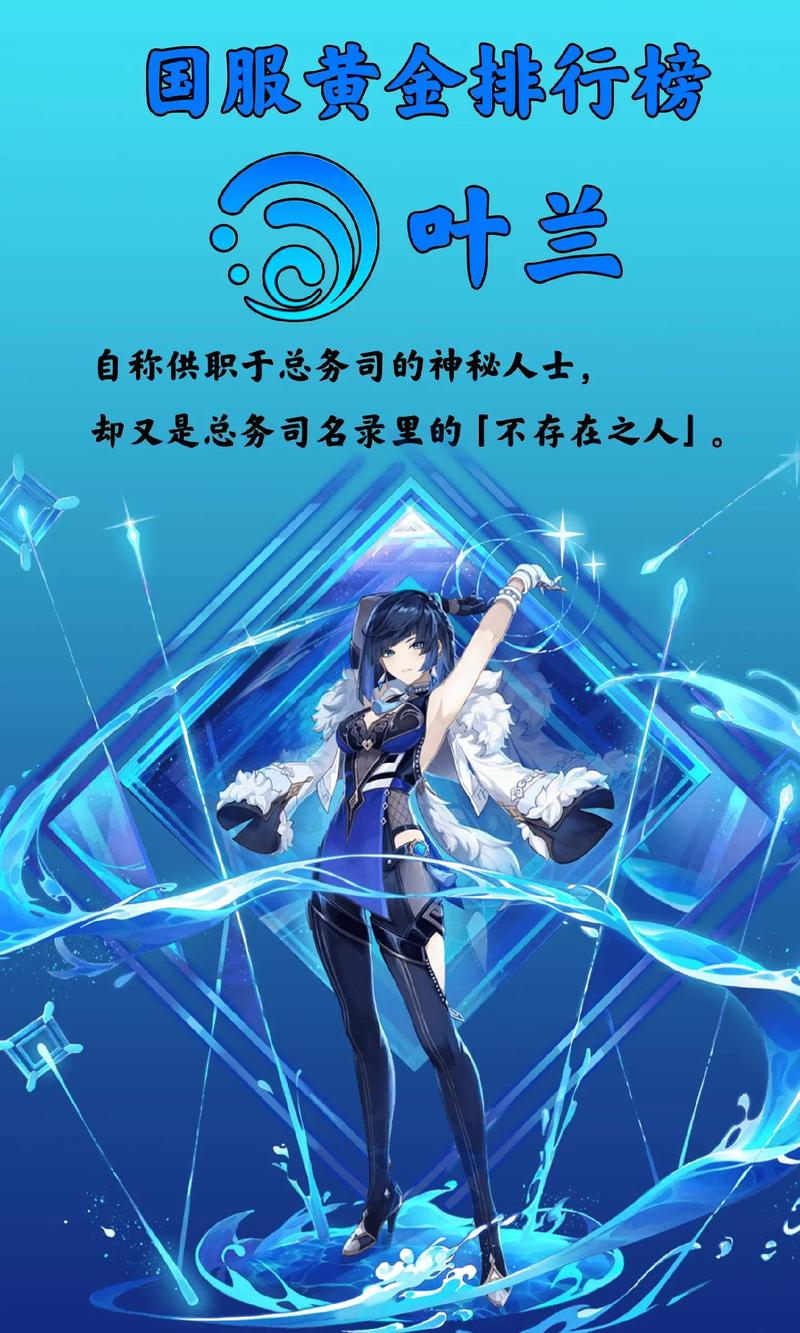夜兰: (262, 553, 605, 1307)
